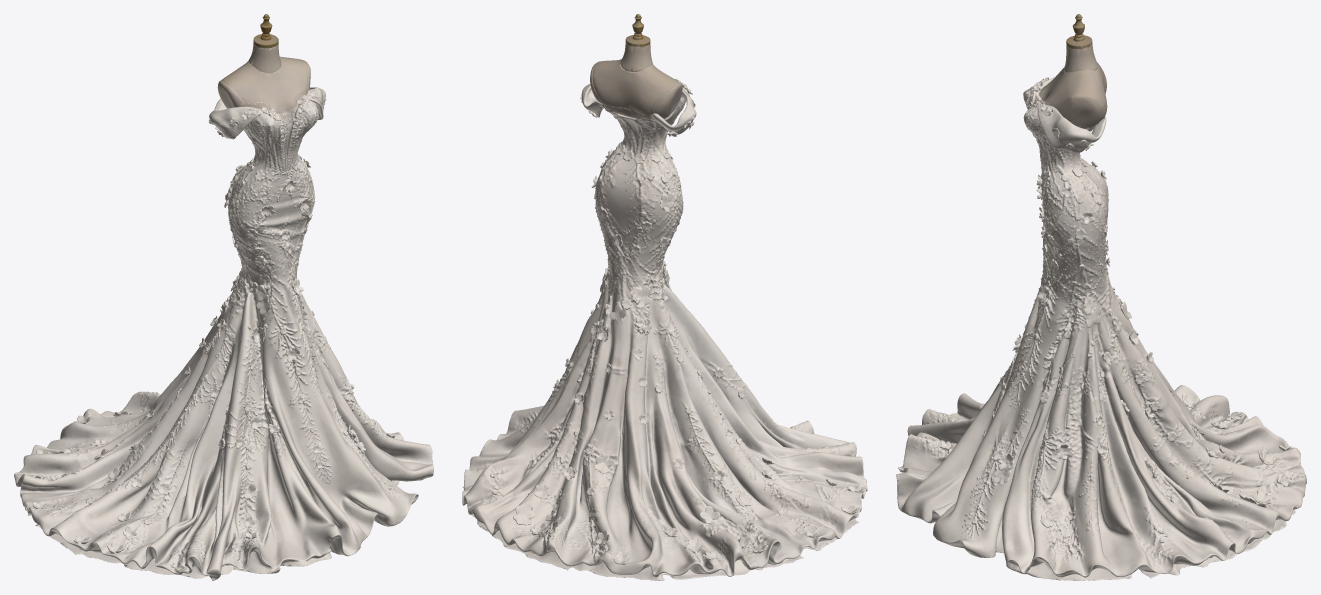
File: mermaid.glb
The picture shows the model from 3 angles, left to right: view 1: azimuth 30°, elevation 25°; view 2: azimuth 150°, elevation 25°; view 3: azimuth 270°, elevation 25°; orthographic projection. The views are drawn at different scales.
Bounding box in the file's own units: 1.5 × 1.9 × 1.43.
1 material, 1 textured.
